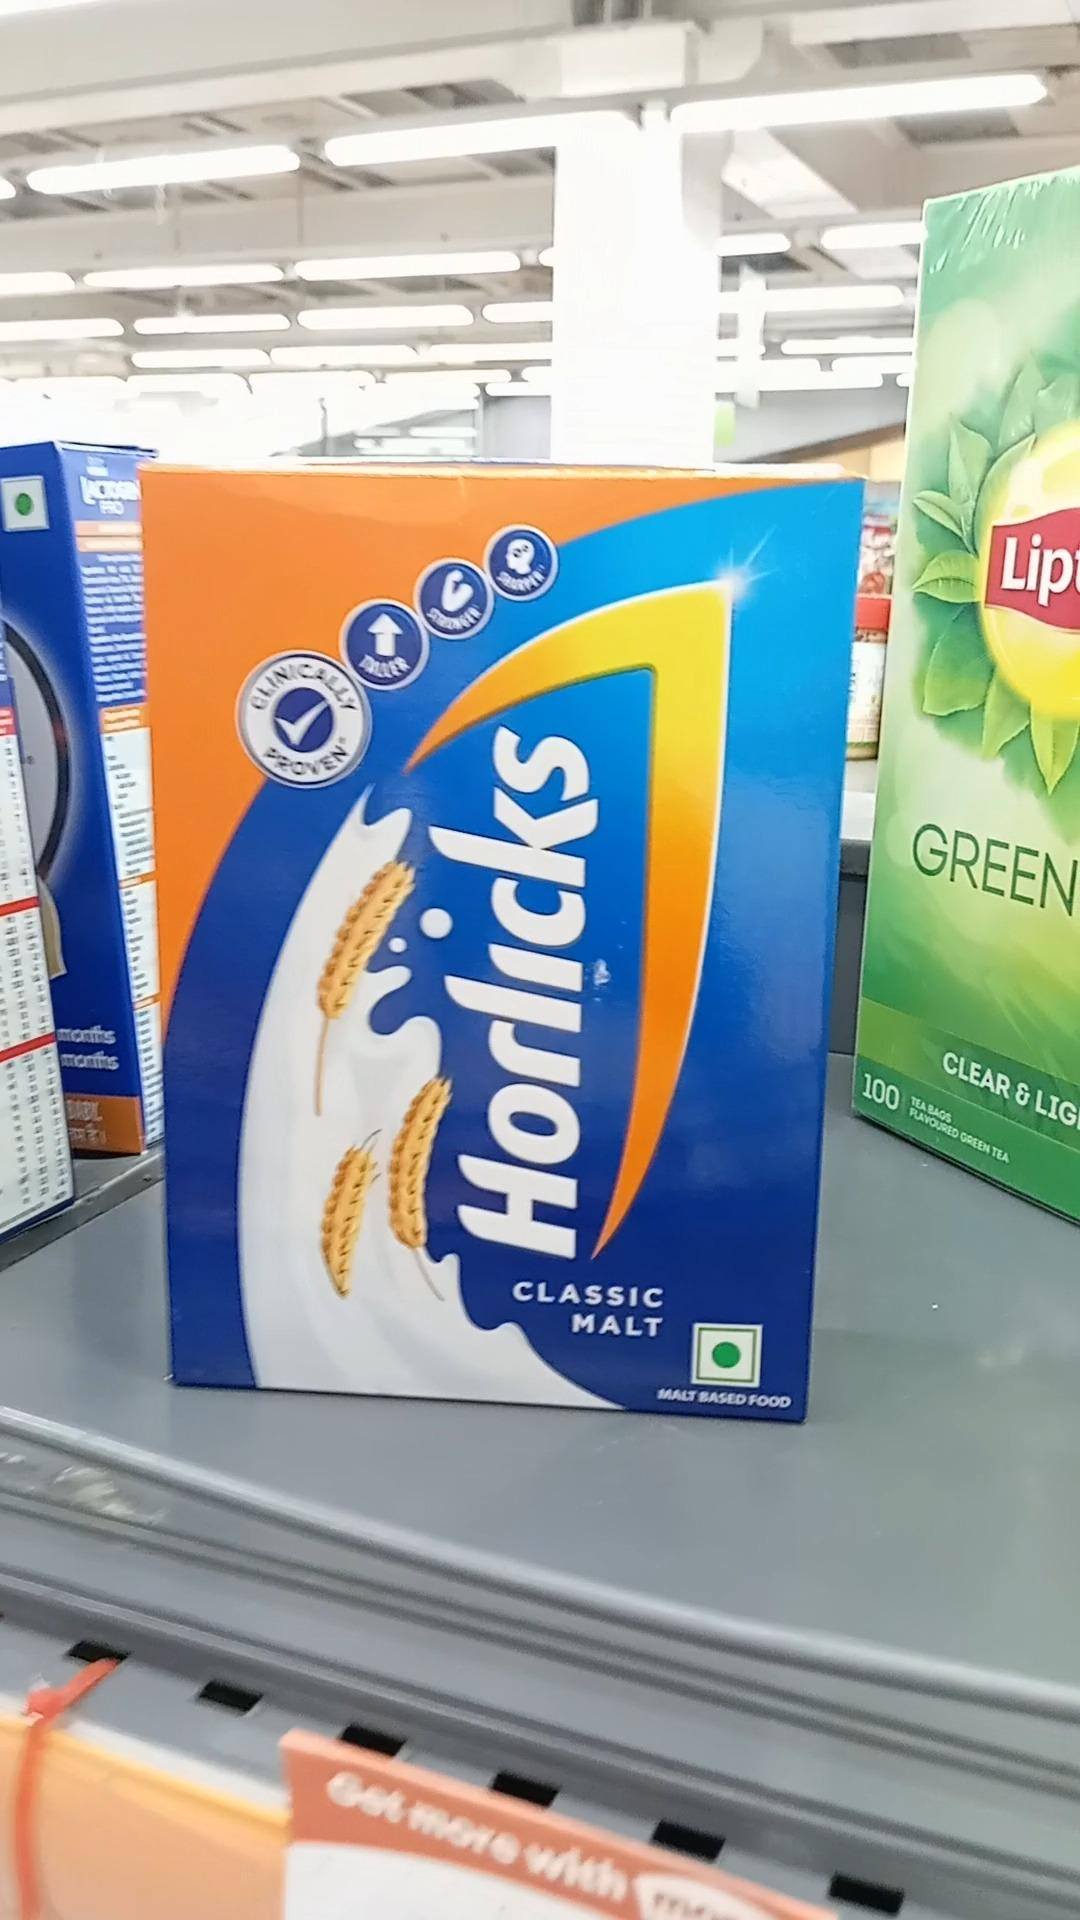HORLICK_CLASSIC_MALT_500_G_PACK: (156, 479, 858, 1427)
